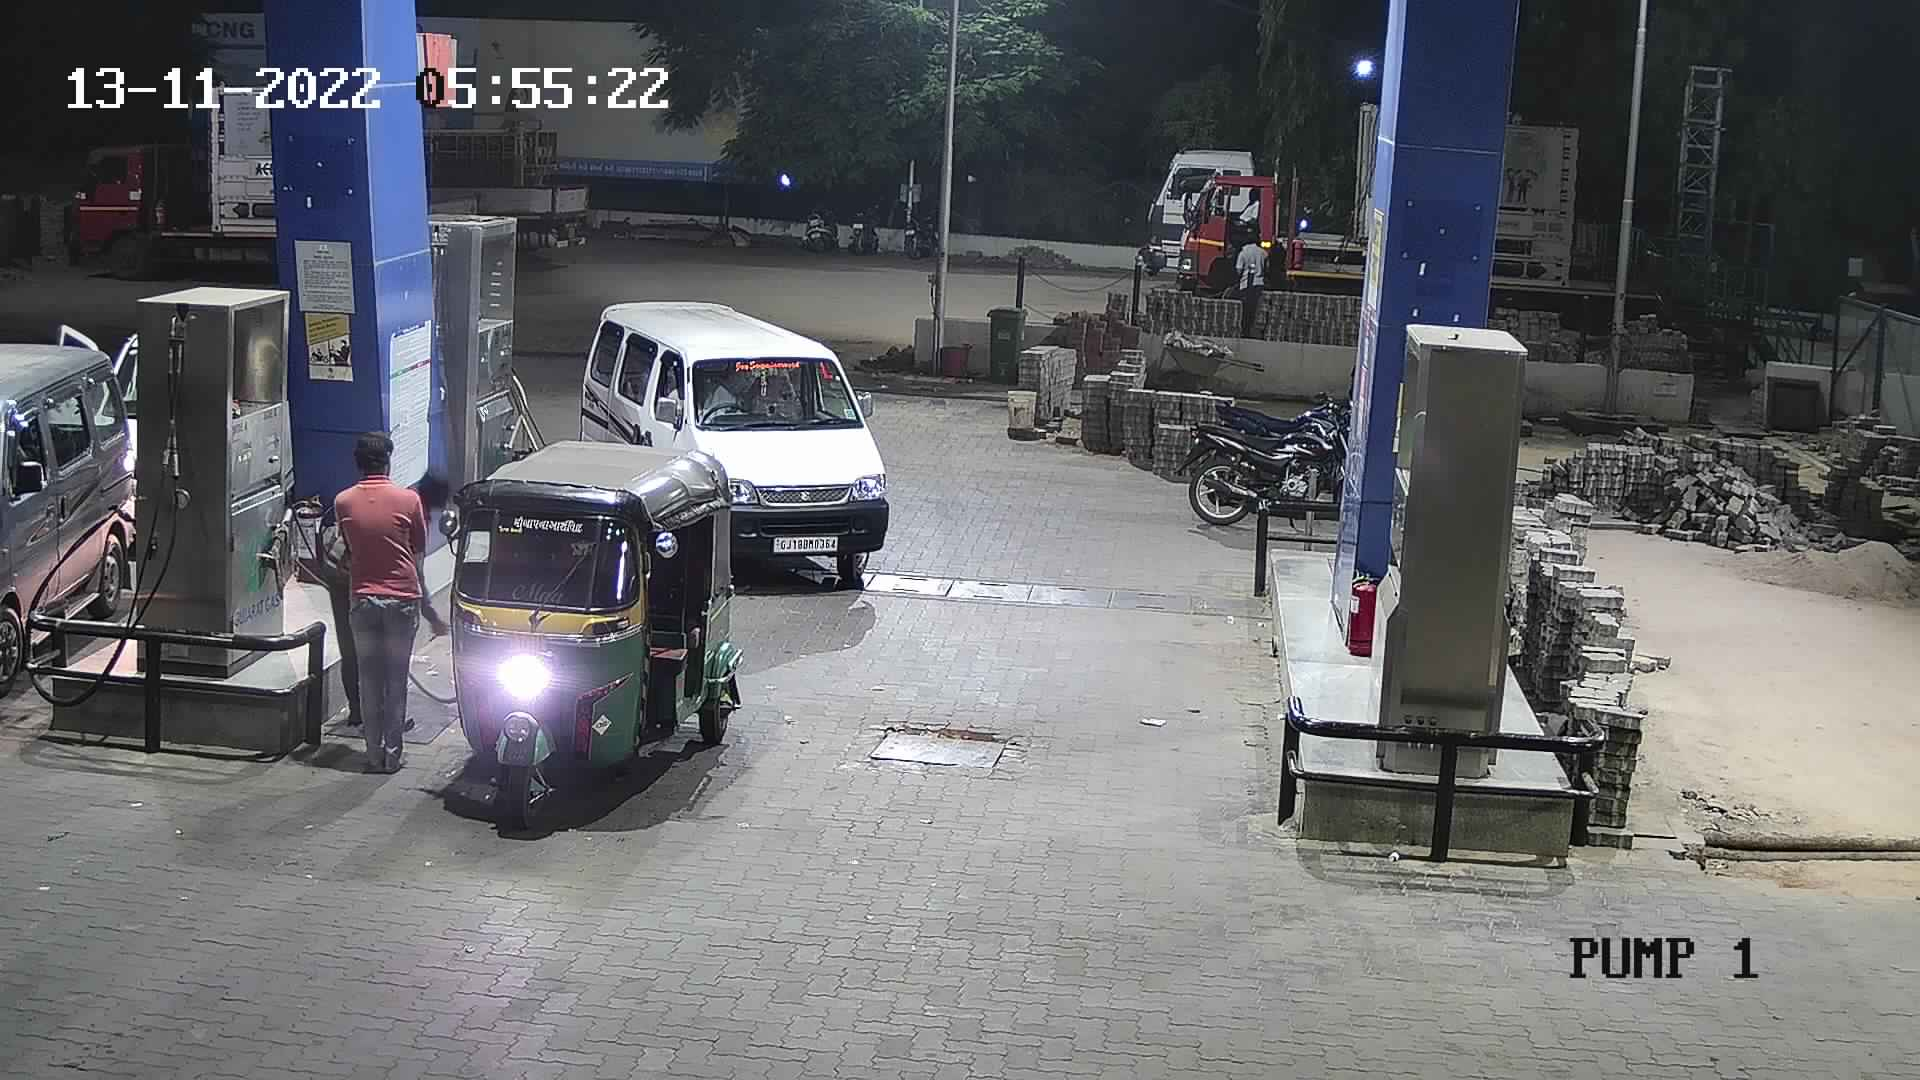Auto: (425, 431, 738, 822)
Bike: (1168, 355, 1371, 546), (789, 185, 843, 264), (843, 191, 891, 262), (891, 194, 943, 260)
Car: (567, 285, 898, 578), (3, 324, 142, 720), (45, 316, 154, 572)
HMV: (1166, 90, 1379, 342), (1120, 90, 1379, 286), (51, 78, 287, 290), (411, 76, 608, 274)
Others: (394, 448, 454, 645)
